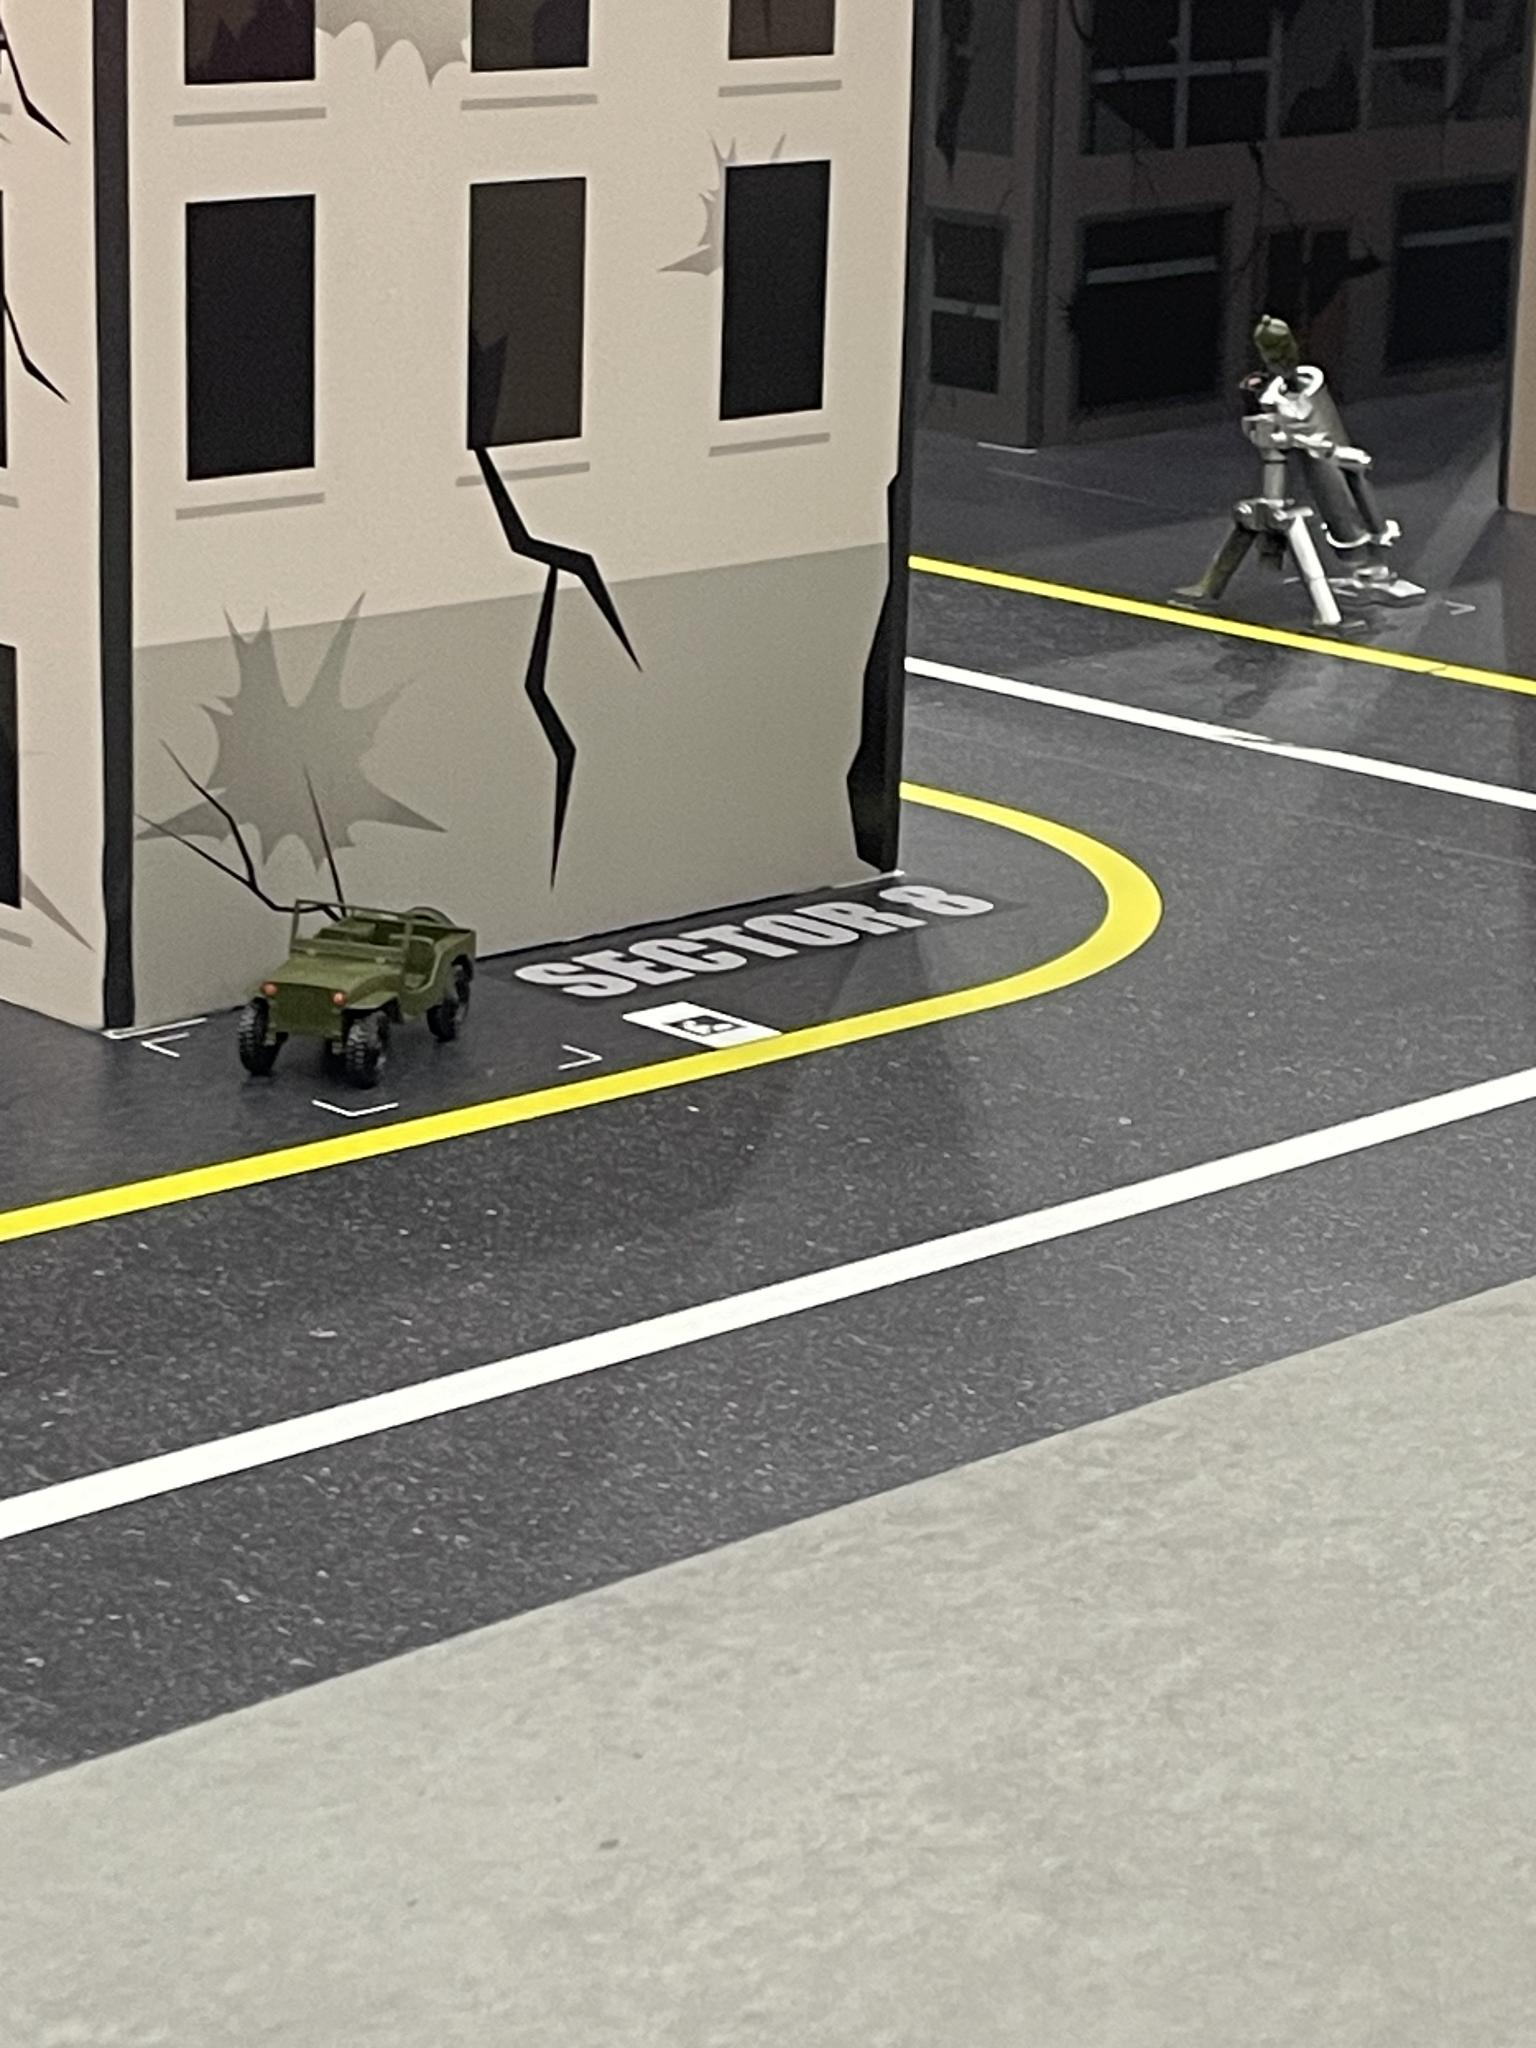Car: (234, 899, 480, 1074)
Mortar: (1176, 323, 1427, 640)
